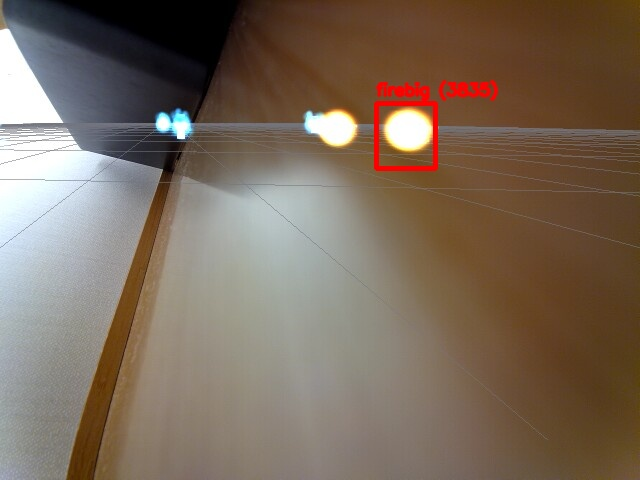firebig: (376, 103, 435, 168)
